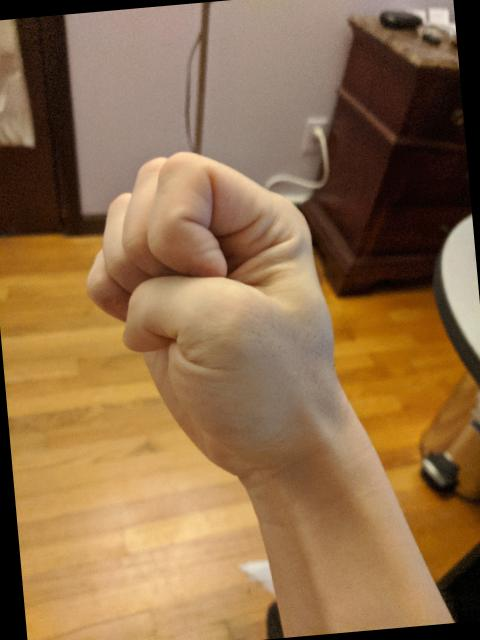E: (70, 134, 354, 498)
